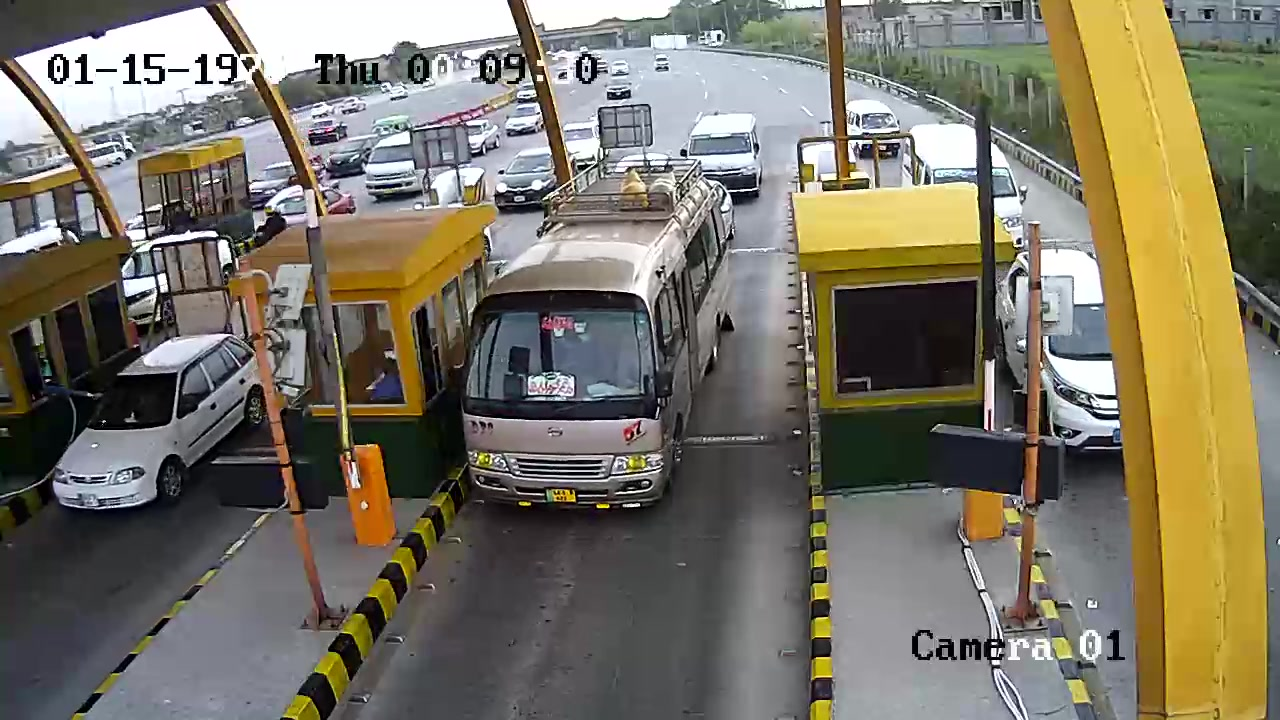F3: (448, 160, 737, 521)
